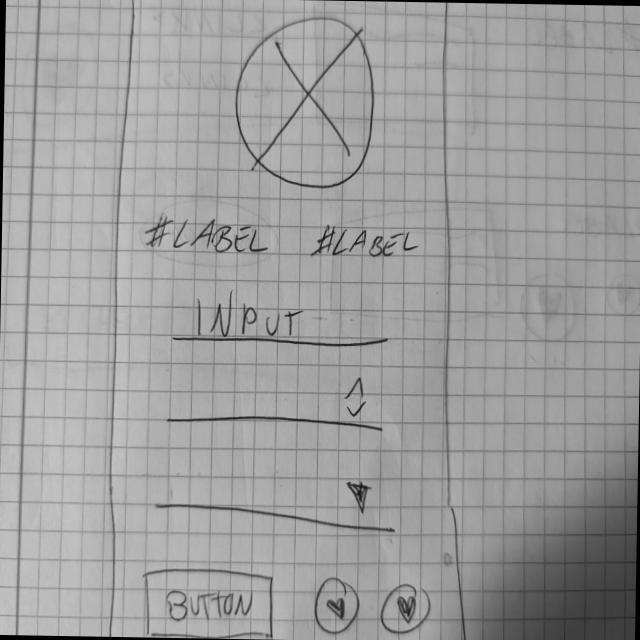button: (142, 563, 278, 640)
container: (97, 1, 481, 640)
icon-button: (312, 575, 364, 637), (379, 582, 434, 638)
image: (233, 14, 379, 195)
input: (171, 290, 391, 352)
label: (142, 211, 272, 258), (313, 222, 423, 262)
number-input: (163, 370, 386, 436)
select: (151, 470, 399, 540)
